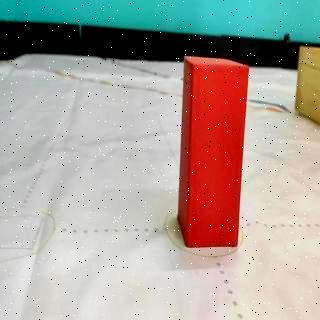redbox: (178, 57, 246, 246)
